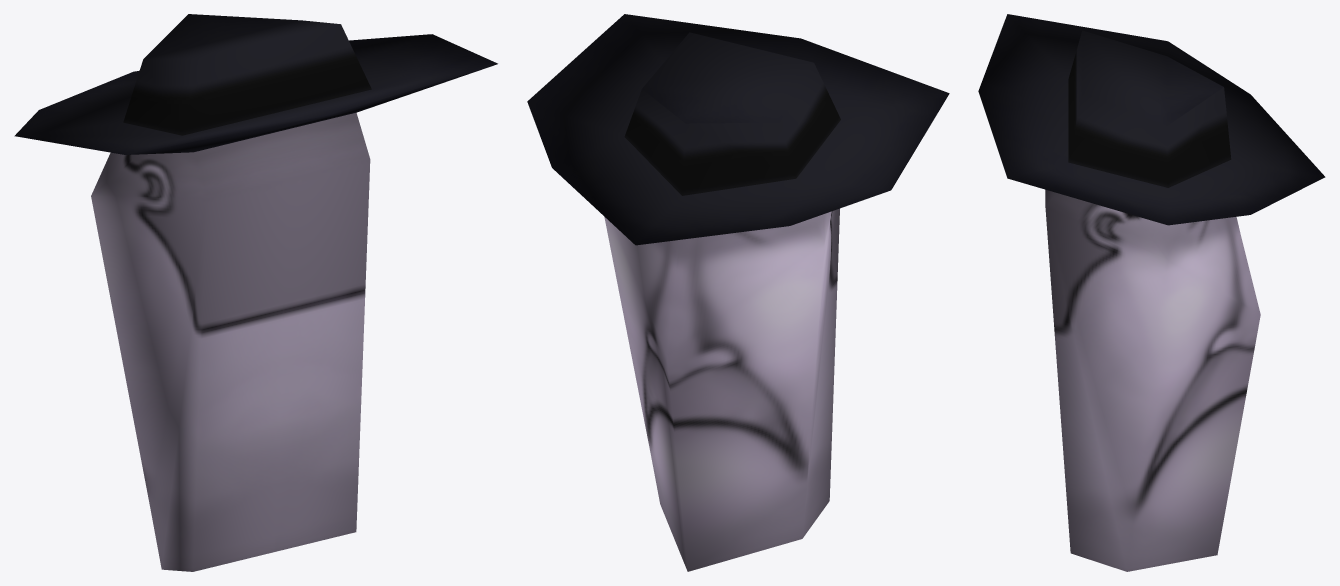
The model's file is black-hat_head.glb.
3 views of the same model, side by side, from view 1: azimuth 30°, elevation 25°; view 2: azimuth 150°, elevation 25°; view 3: azimuth 270°, elevation 25° (orthographic). The views are drawn at different scales.
Visible parts, largest first — view 1: blackHat; view 2: blackHat; view 3: blackHat.
Boxes of the visible parts, x1,y1,x2,y2 form: blackHat: [14, 14, 497, 571]; blackHat: [527, 14, 949, 571]; blackHat: [978, 14, 1325, 571].
Size of the model in its own units: 1.63 by 2.04 by 1.3.
Materials: 1 (1 with a texture image).
